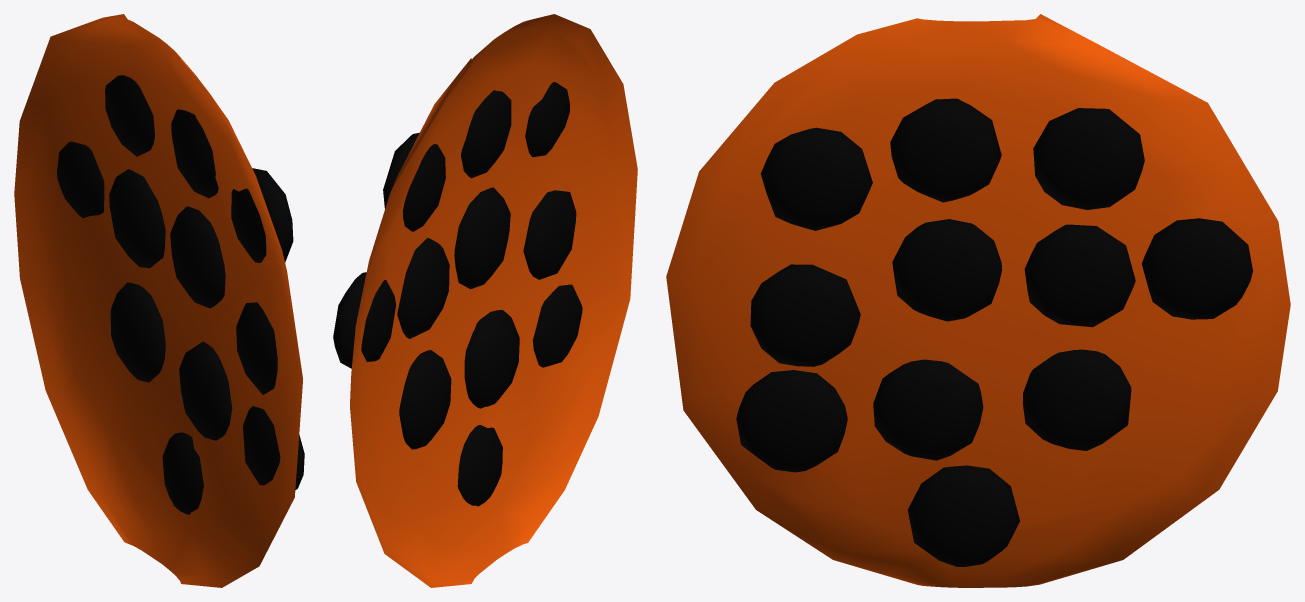
File: cookie_normal.fbx
3 views of the same model, side by side, from view 1: azimuth 30°, elevation 25°; view 2: azimuth 150°, elevation 25°; view 3: azimuth 270°, elevation 25° (orthographic). The views are drawn at different scales.
Visible parts, largest first — view 1: base; view 2: base; view 3: base.
Boxes of the visible parts, x1=… form: base: x1=14, y1=14, x2=304, y2=587; base: x1=333, y1=14, x2=637, y2=587; base: x1=666, y1=14, x2=1290, y2=587.
Bounding box in the file's own units: 20.31 × 198 × 196.
